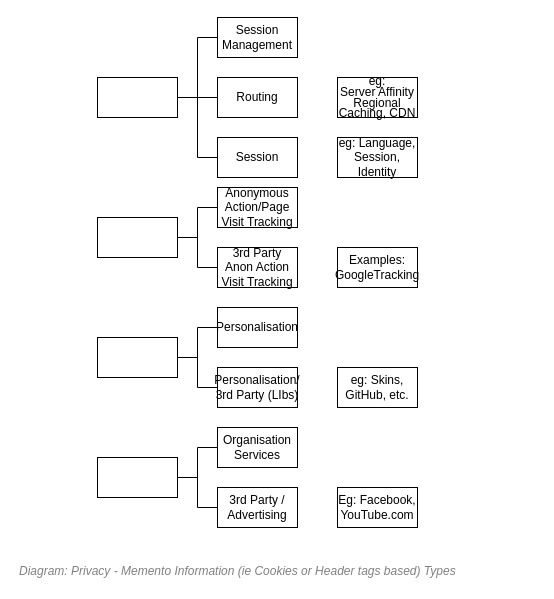
This 554x599 diagram has some shape labels left out. Each missing label, with the box of its shape:
Essential: (96, 76, 178, 118)
Functional: (96, 336, 178, 378)
Performance: (96, 216, 178, 258)
Targetted: (96, 456, 178, 498)
